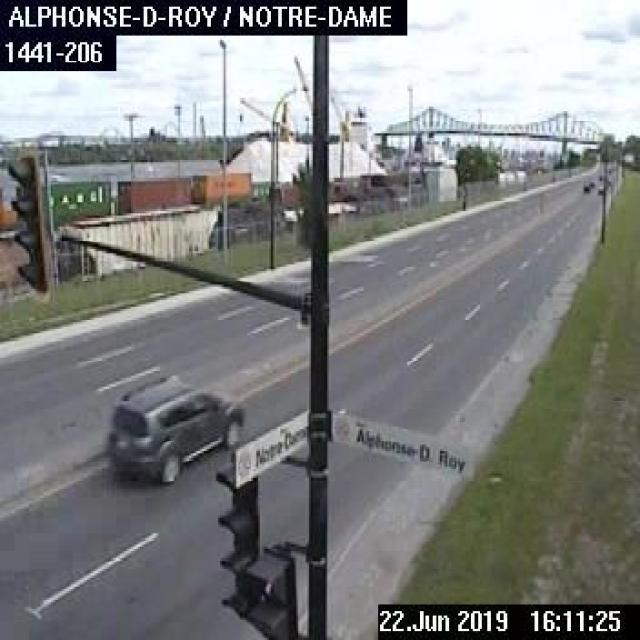vehicle: (102, 380, 245, 482), (582, 180, 593, 191)
